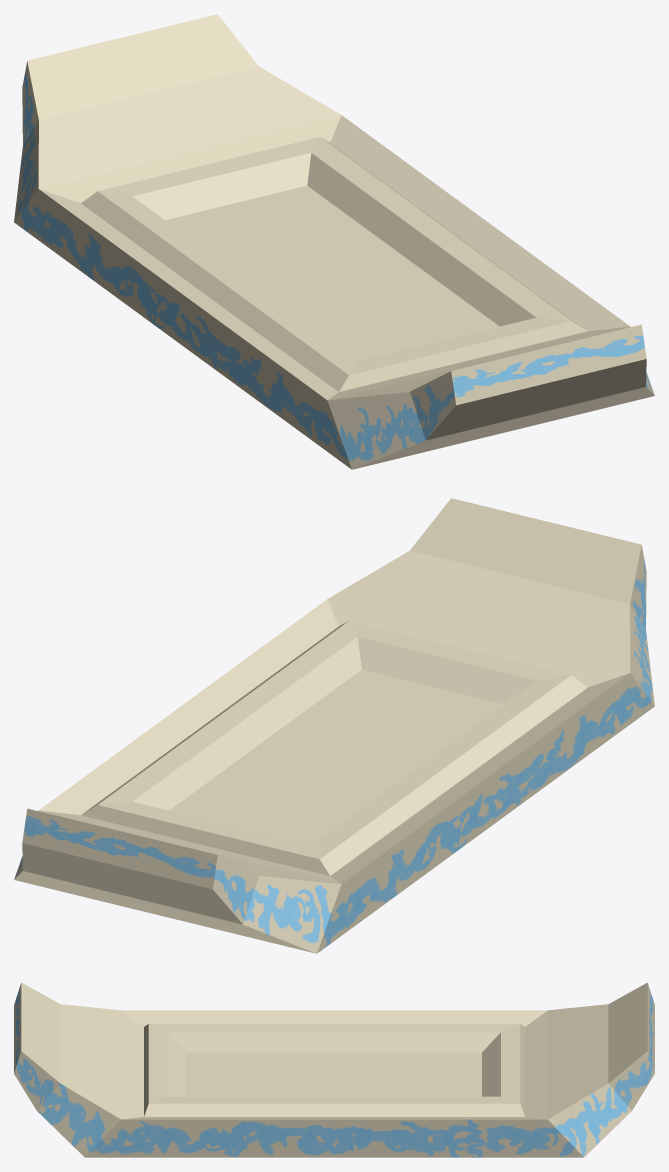
Rendered from ButterTrayBottom.fbx.
The picture shows the model from 3 angles, top to bottom: view 1: azimuth 30°, elevation 25°; view 2: azimuth 150°, elevation 25°; view 3: azimuth 270°, elevation 25°; orthographic projection. The views are drawn at different scales.
Visible parts, largest first — view 1: ButterTray; view 2: ButterTray; view 3: ButterTray.
Part boxes in pixels (bbox=[...]): ButterTray: bbox=[14, 14, 654, 469]; ButterTray: bbox=[14, 498, 654, 953]; ButterTray: bbox=[14, 982, 654, 1157].
Bounding box in the file's own units: 200 × 73.57 × 496.
